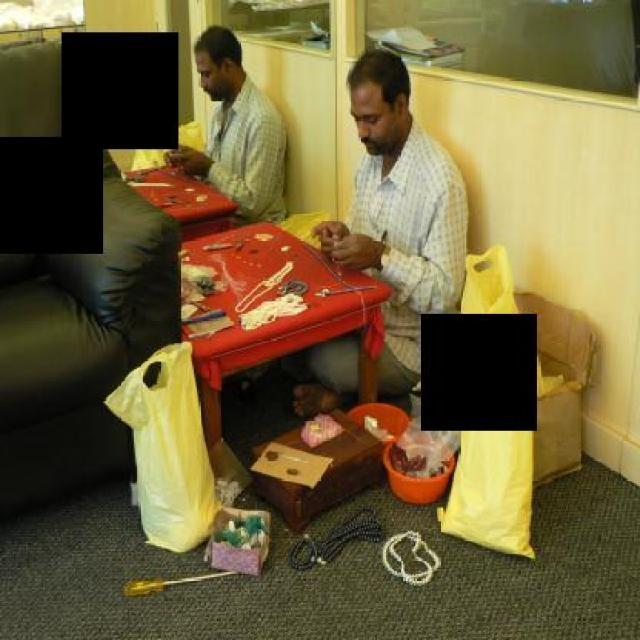plastic bag: (102, 340, 226, 554), (432, 341, 534, 557), (452, 243, 568, 397), (158, 114, 208, 155), (129, 134, 171, 169), (298, 211, 338, 243), (276, 208, 324, 234)
